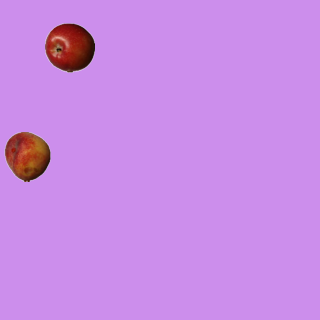Apple Braeburn: (44, 22, 94, 72)
Peach: (2, 131, 52, 181)
